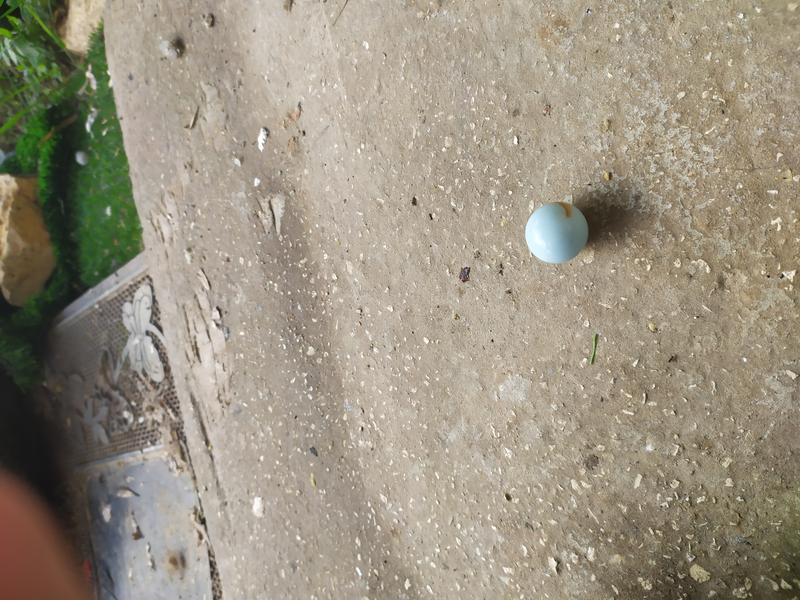Warning: (523, 199, 592, 265)
